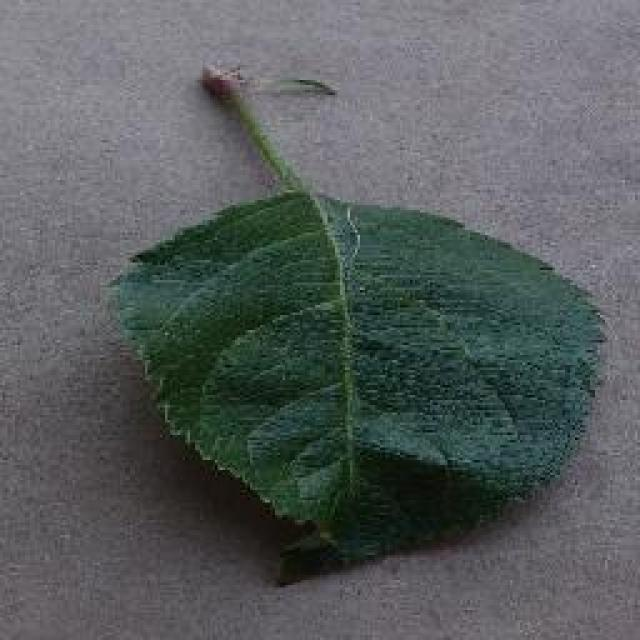apple healthy: (110, 57, 608, 585)
